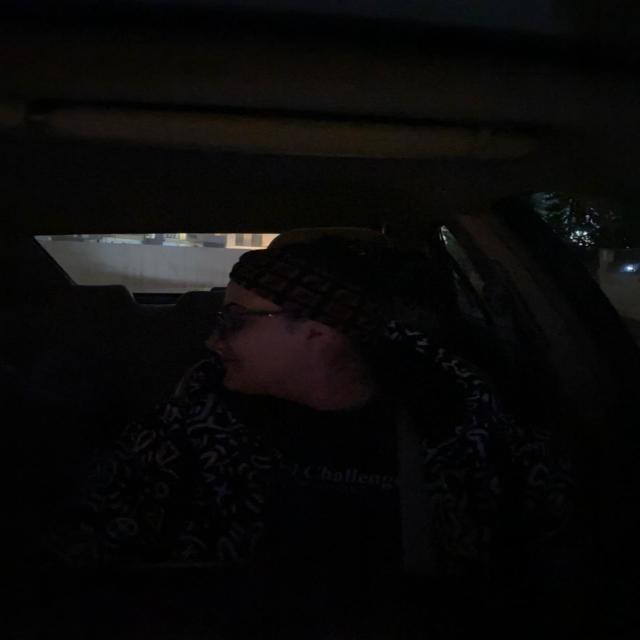LeftRight: (194, 227, 403, 420)
